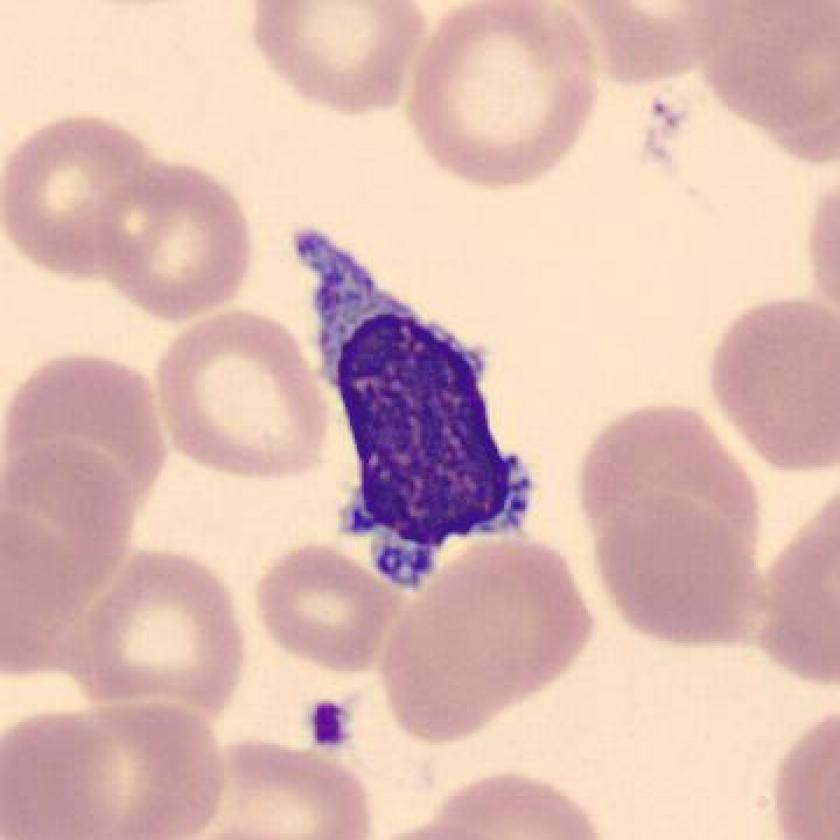lymphocyte: (260, 210, 554, 594)
platelets: (301, 694, 360, 754)
